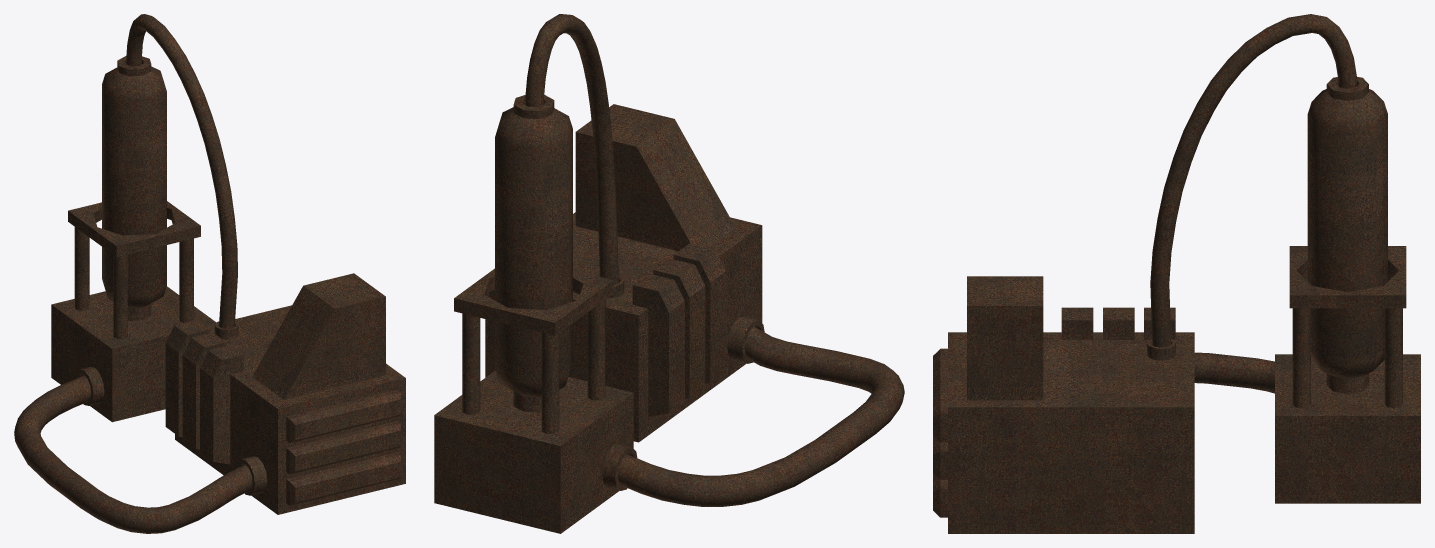
File: test_machine_mx_1.glb
3 renders of one model, left to right at view 1: azimuth 30°, elevation 25°; view 2: azimuth 150°, elevation 25°; view 3: azimuth 270°, elevation 25°, orthographic. The views are drawn at different scales.
Parts seen in each view (by area): view 1: test_machine_mx_1; view 2: test_machine_mx_1; view 3: test_machine_mx_1.
Boxes of the visible parts, bbox=[...] form: test_machine_mx_1: bbox=[14, 14, 405, 533]; test_machine_mx_1: bbox=[434, 14, 904, 533]; test_machine_mx_1: bbox=[933, 14, 1420, 533].
Bounding box in the file's own units: 2.66 × 3.52 × 3.4.
1 material, 1 textured.
